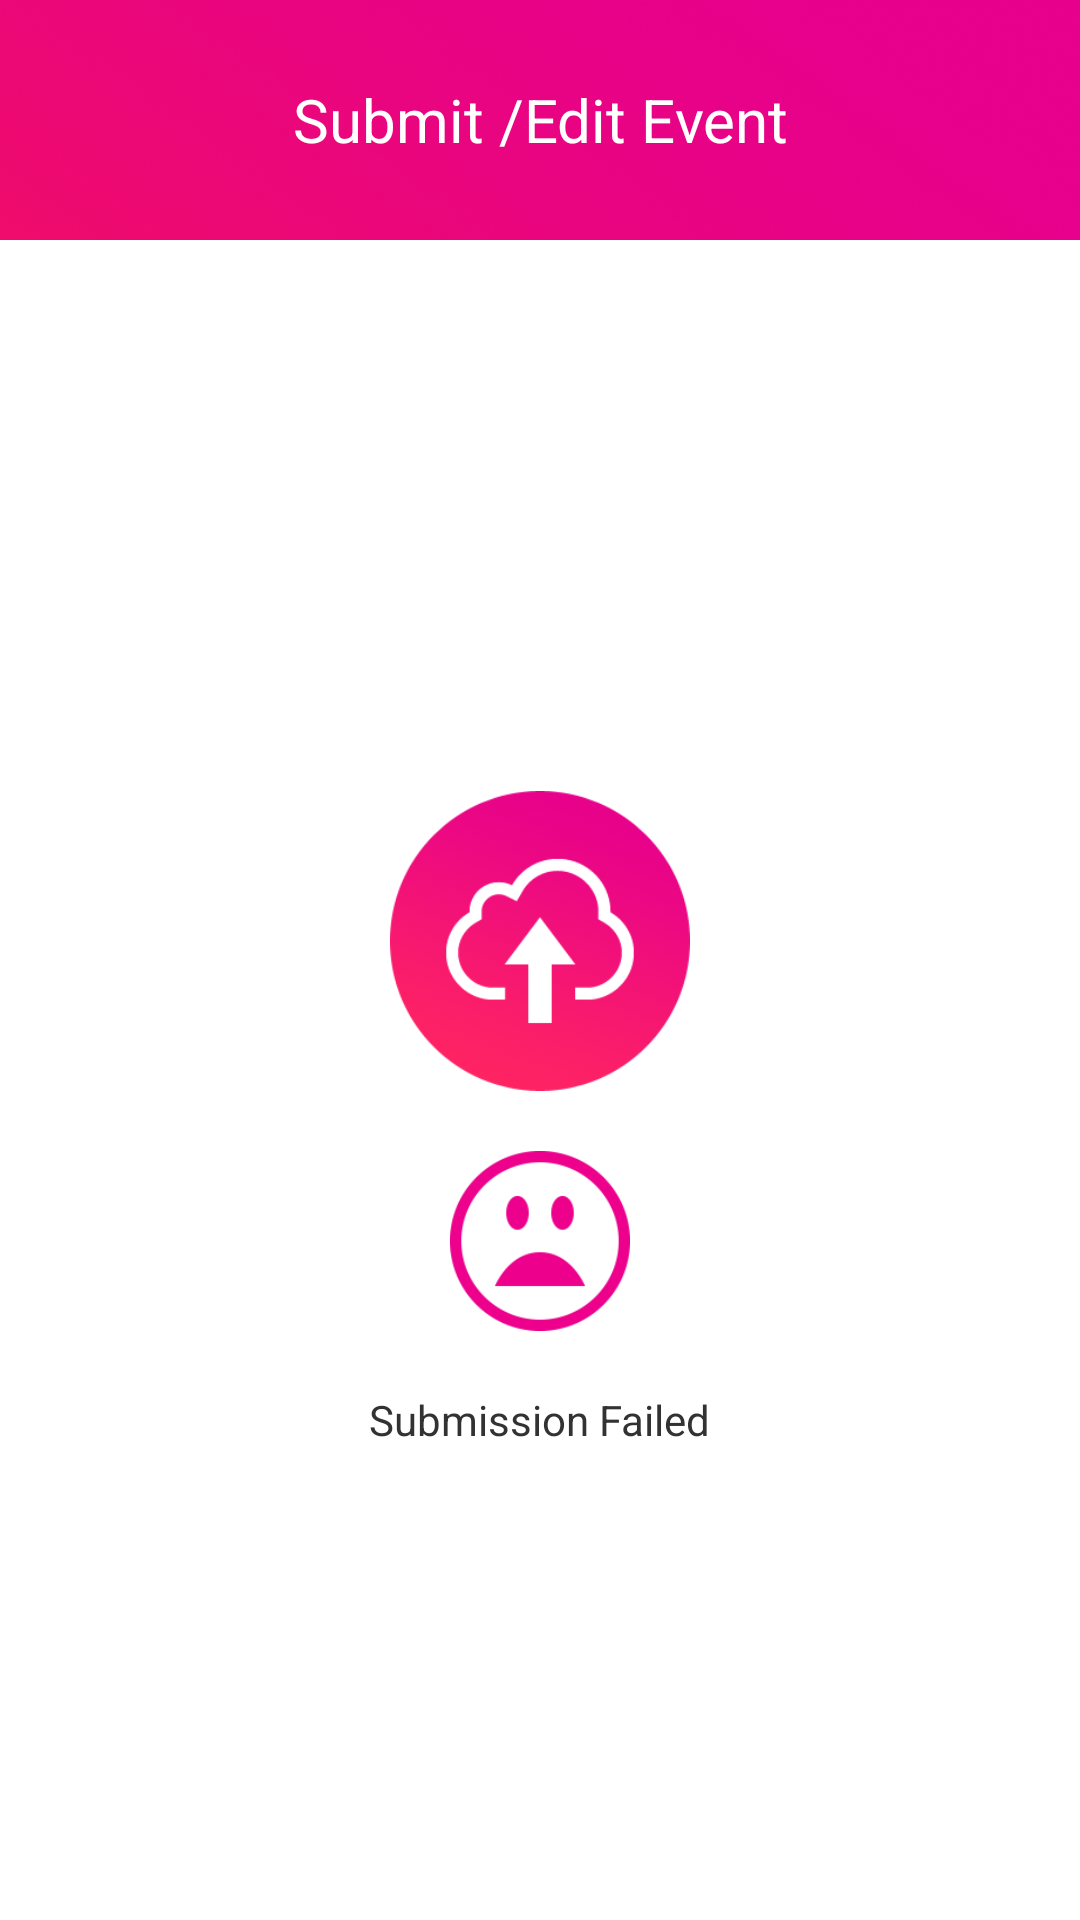

Point at icon controls on the screen. Image size 1080 x 1920, points as point (x, y).
submit: point (540, 941)
submit fail: point (540, 1241)
